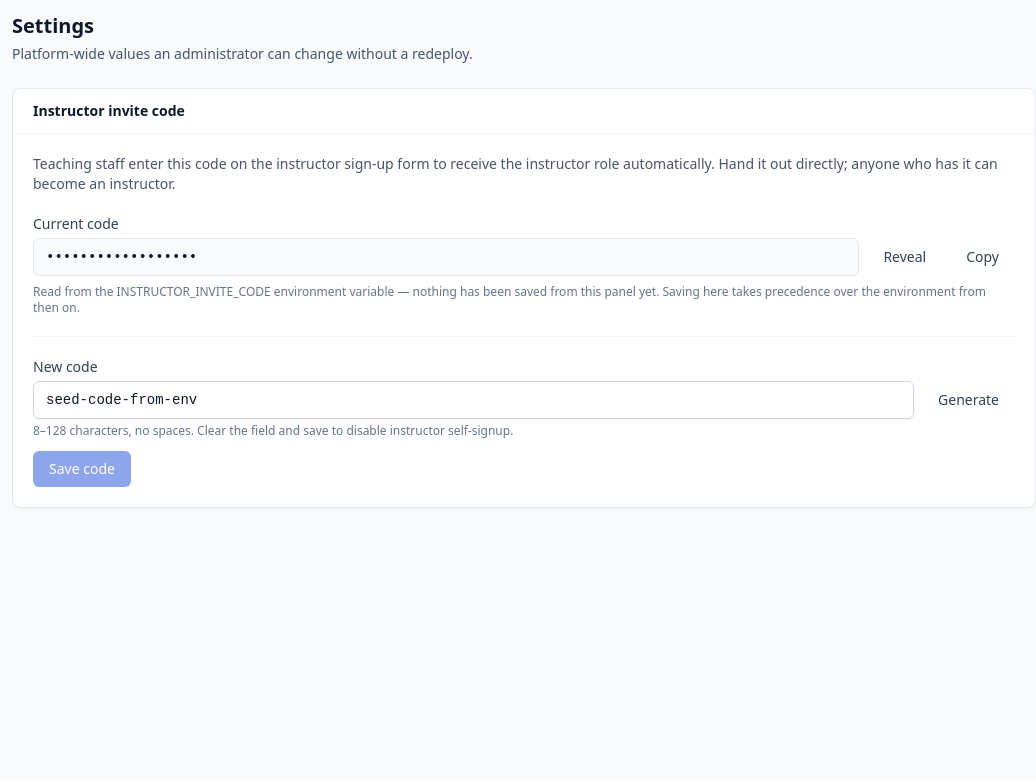
Test: AdminSettingsPage › saves a new code and reports the saved value
Expected: the button "Save code" is disabled, x1=33 y1=451 x2=131 y2=487
Replace the text in the field labelled "New code" with "rotated-code-2026". click: [474, 400]
box: x1=33 y1=381 x2=914 y2=419
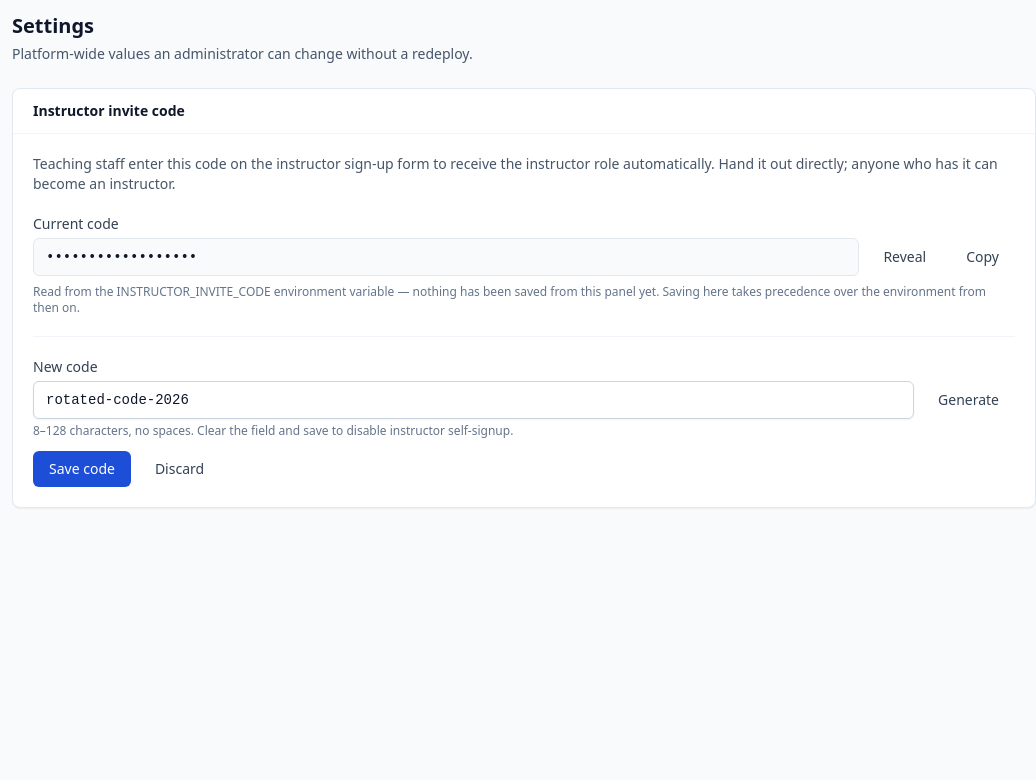
Expected: the button "Save code" is enabled
Click the button "Save code". click: [82, 469]
box: x1=33 y1=451 x2=131 y2=487
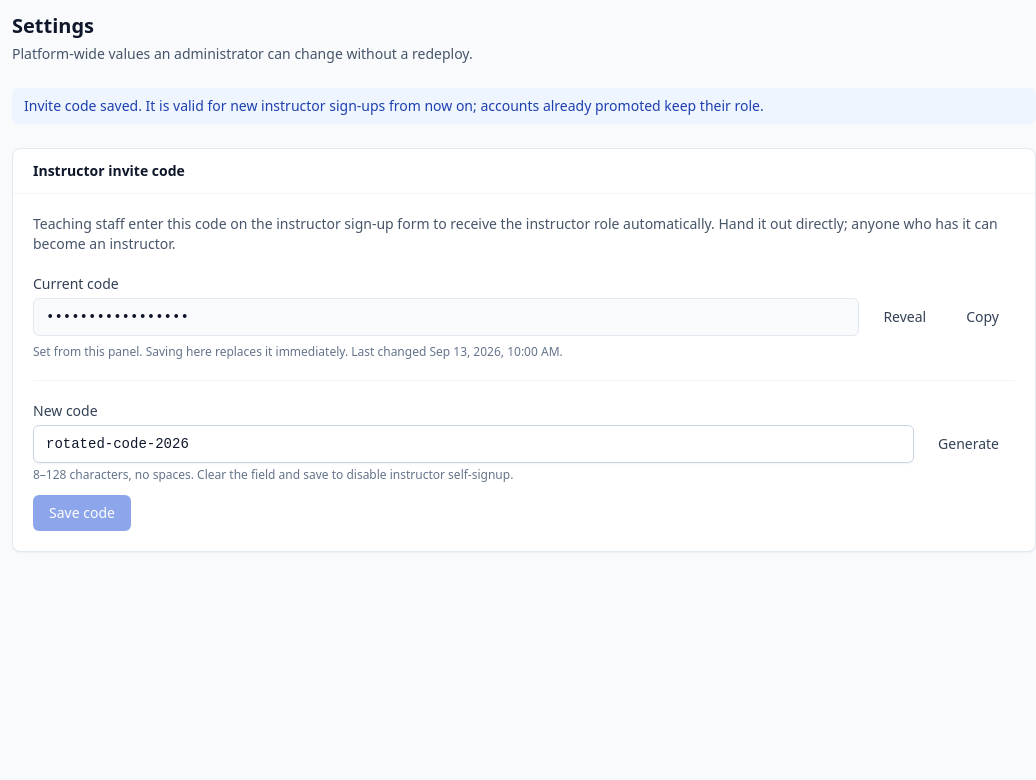
Expected: the message shows "Invite code saved", x1=24 y1=96 x2=764 y2=115
Expected: the text "Set from this panel" is shown, x1=33 y1=343 x2=348 y2=360
